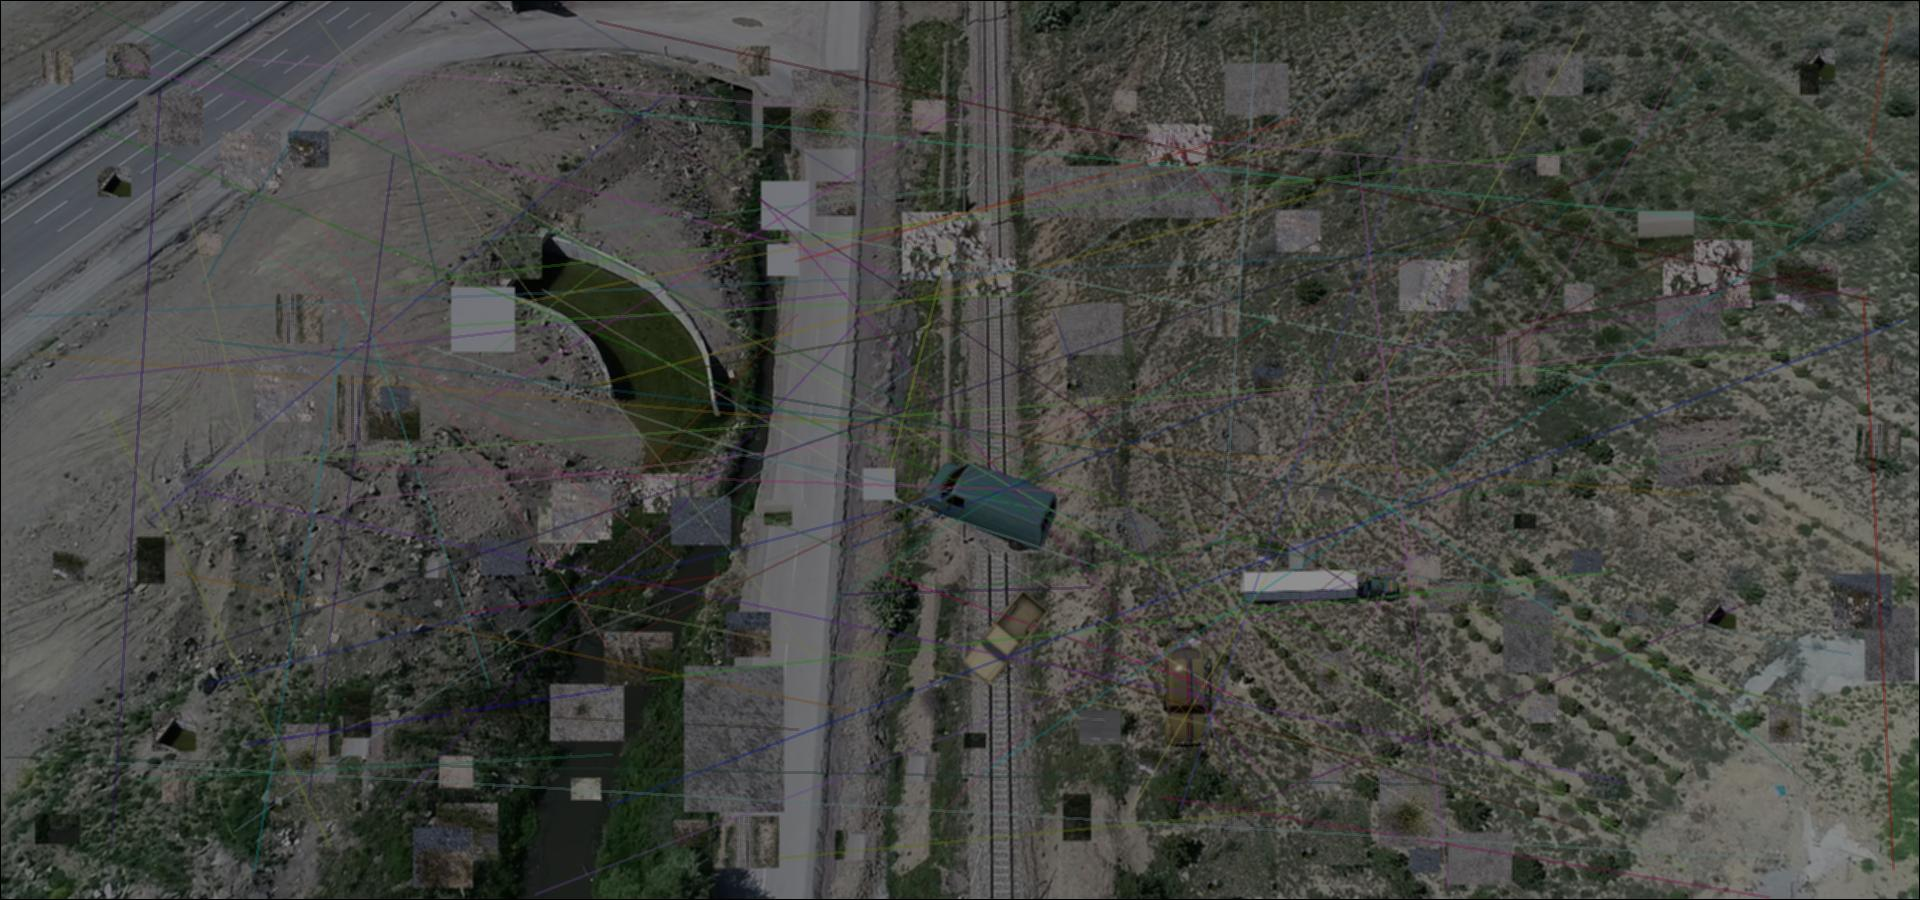arac: (923, 460, 1059, 551), (958, 590, 1054, 687), (1157, 628, 1213, 758), (1238, 569, 1402, 606)
